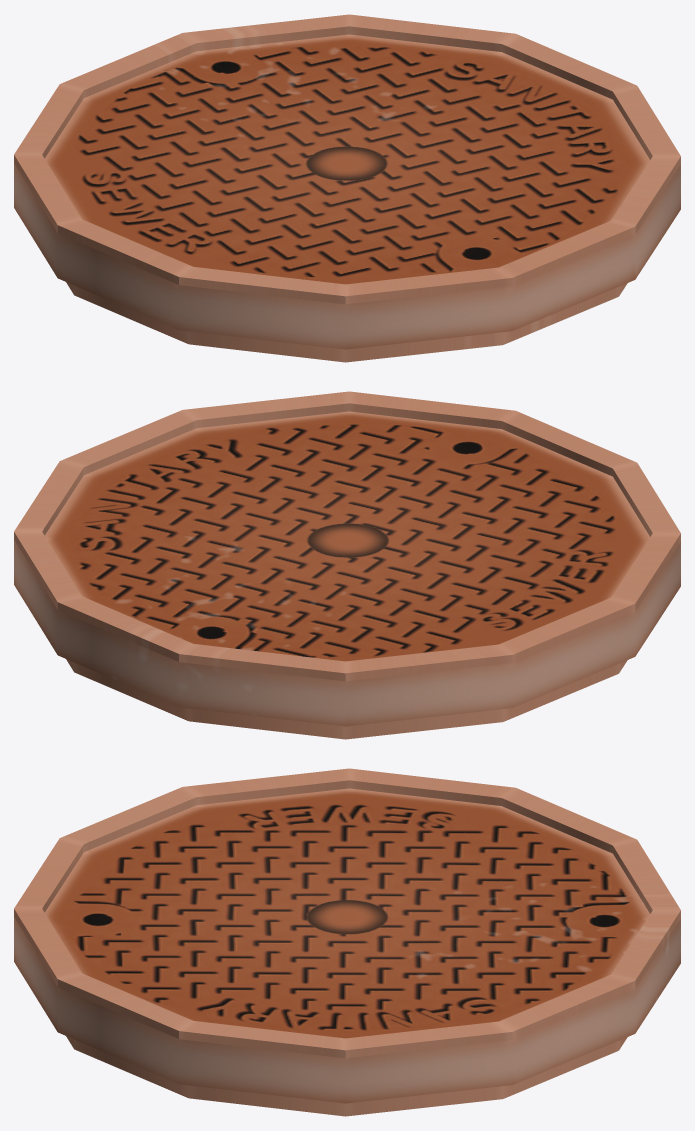
Rendered from manhole_01.FBX.
3 renders of one model, top to bottom at view 1: azimuth 30°, elevation 25°; view 2: azimuth 150°, elevation 25°; view 3: azimuth 270°, elevation 25°, orthographic.
Visible parts, largest first — view 1: manhole; view 2: manhole; view 3: manhole.
Boxes of the visible parts, box(x1,y1,x2,y2) form: manhole: box(14, 14, 680, 362); manhole: box(14, 391, 680, 739); manhole: box(14, 768, 680, 1116).
Bounding box in the file's own units: 90.2 × 11.07 × 90.2.
